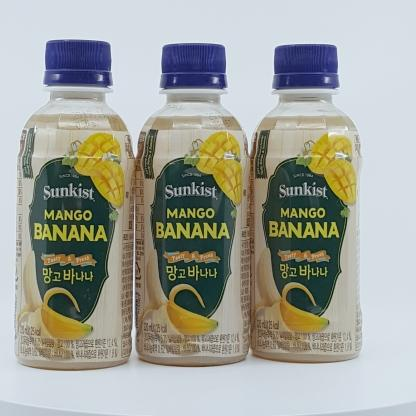-----------220ML: (14, 39, 136, 370), (135, 42, 251, 367), (249, 44, 363, 363)
